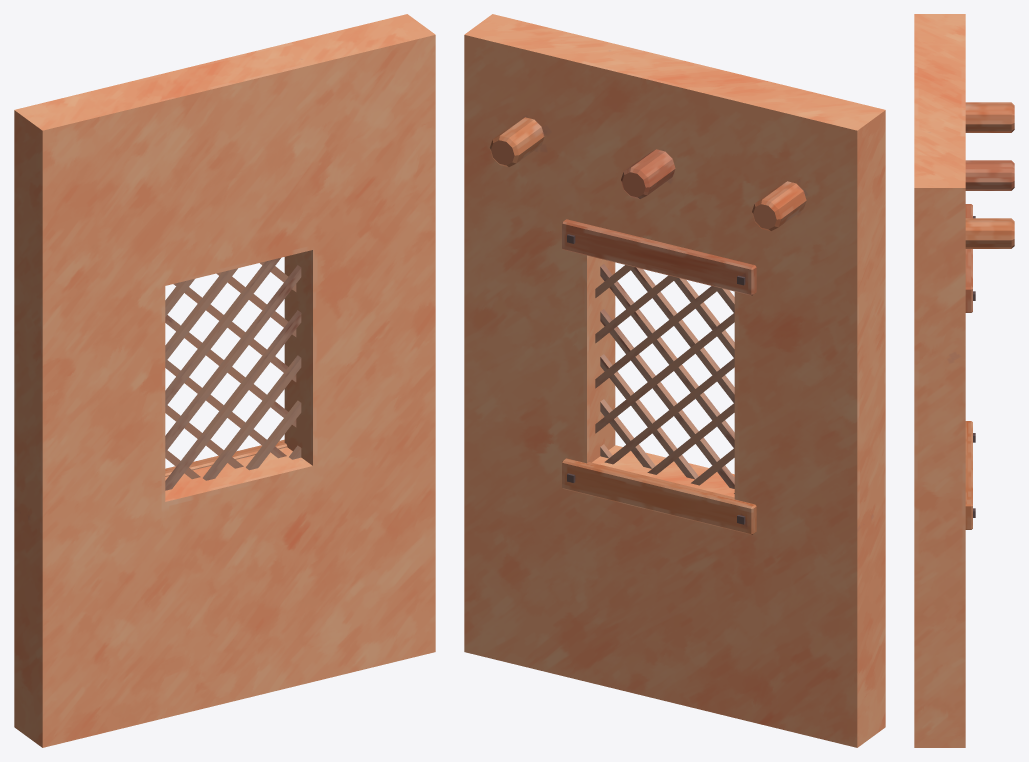
Rendered from wall_upper_window.fbx.
3 views of the same model, side by side, from view 1: azimuth 30°, elevation 25°; view 2: azimuth 150°, elevation 25°; view 3: azimuth 270°, elevation 25° (orthographic). The views are drawn at different scales.
Visible parts, largest first — view 1: wall_upper_window; view 2: wall_upper_window; view 3: wall_upper_window.
Part boxes in pixels (x1=…): wall_upper_window: x1=14, y1=14, x2=435, y2=747; wall_upper_window: x1=464, y1=14, x2=885, y2=747; wall_upper_window: x1=914, y1=14, x2=1014, y2=747.
Size of the model in its own units: 8 by 12 by 1.95.
Materials: 1 (1 with a texture image).
